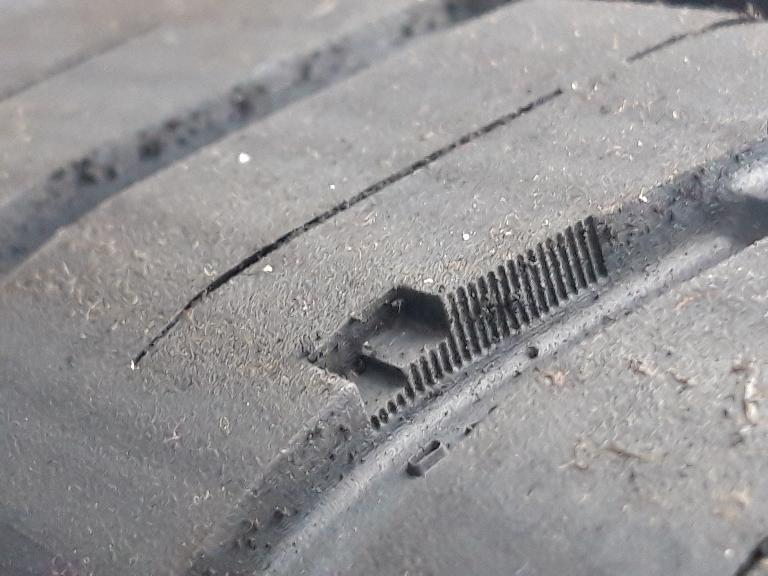temoin:50: (295, 250, 517, 447)
